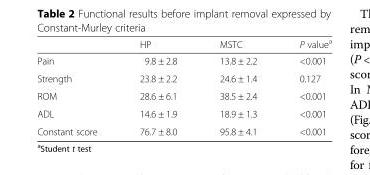table: (36, 36, 331, 136)
table column: (36, 36, 117, 136), (117, 36, 197, 136), (197, 36, 277, 136), (277, 36, 331, 136)
table column header: (36, 36, 331, 52)
table row: (36, 86, 331, 104), (36, 104, 331, 122), (36, 52, 331, 69), (36, 69, 331, 86), (36, 36, 331, 52), (36, 122, 331, 136)
